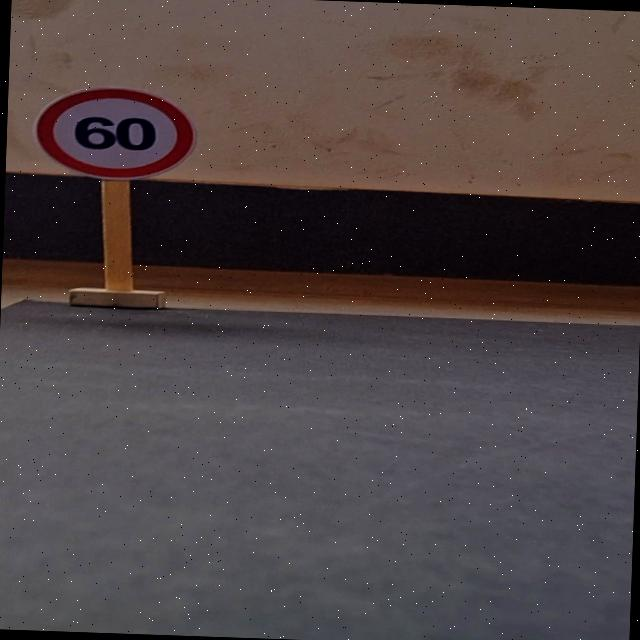Speed60: (34, 83, 198, 185)
